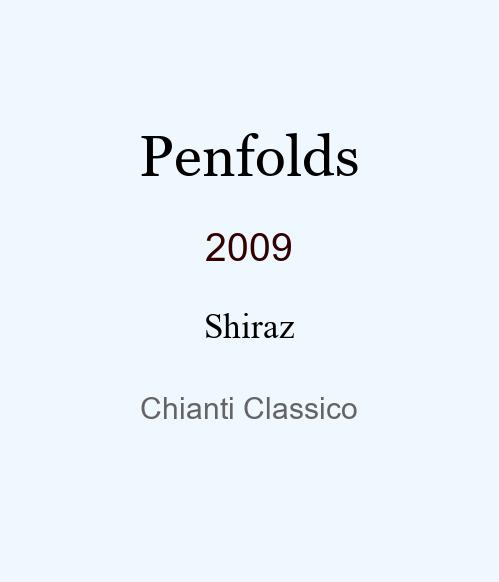brand: (139, 123, 360, 166)
region: (140, 391, 358, 413)
variety: (204, 306, 295, 331)
vintage: (205, 225, 293, 253)
